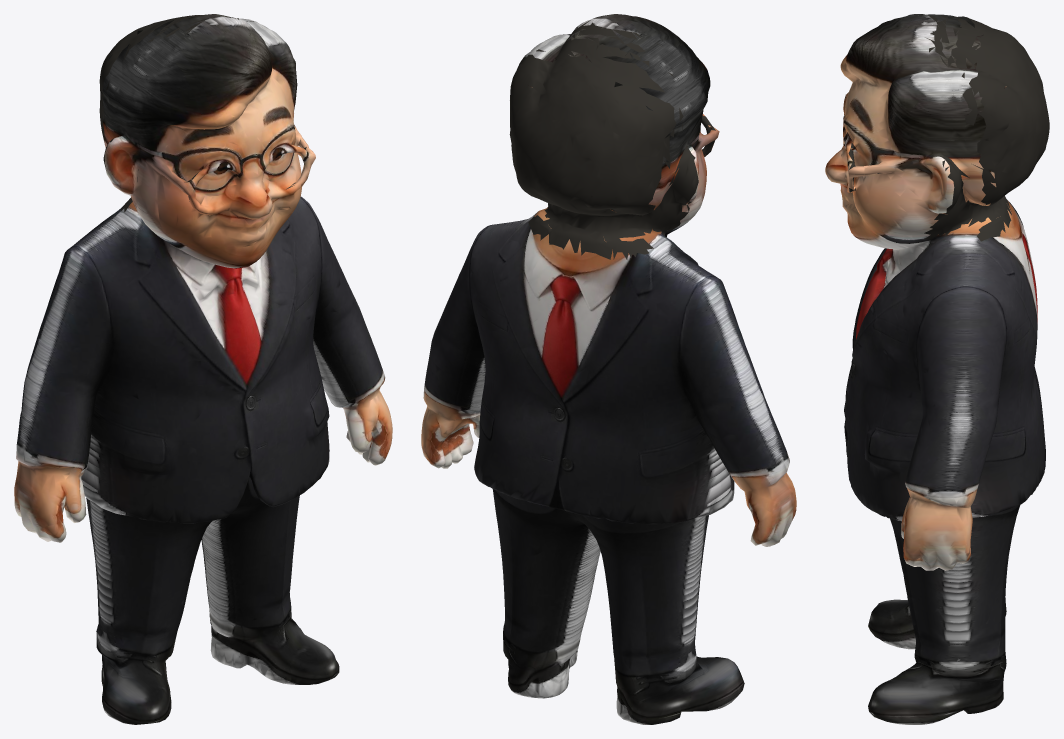
File: boss.glb
The picture shows the model from 3 angles, left to right: view 1: azimuth 30°, elevation 25°; view 2: azimuth 150°, elevation 25°; view 3: azimuth 270°, elevation 25°; orthographic projection.
Visible parts, largest first — view 1: geometry_0; view 2: geometry_0; view 3: geometry_0.
Boxes of the visible parts, bbox=[...] form: geometry_0: bbox=[14, 14, 392, 724]; geometry_0: bbox=[421, 14, 796, 724]; geometry_0: bbox=[825, 14, 1049, 724].
Size of the model in its own units: 1.11 by 1.96 by 0.6102.
1 material, 1 textured.
